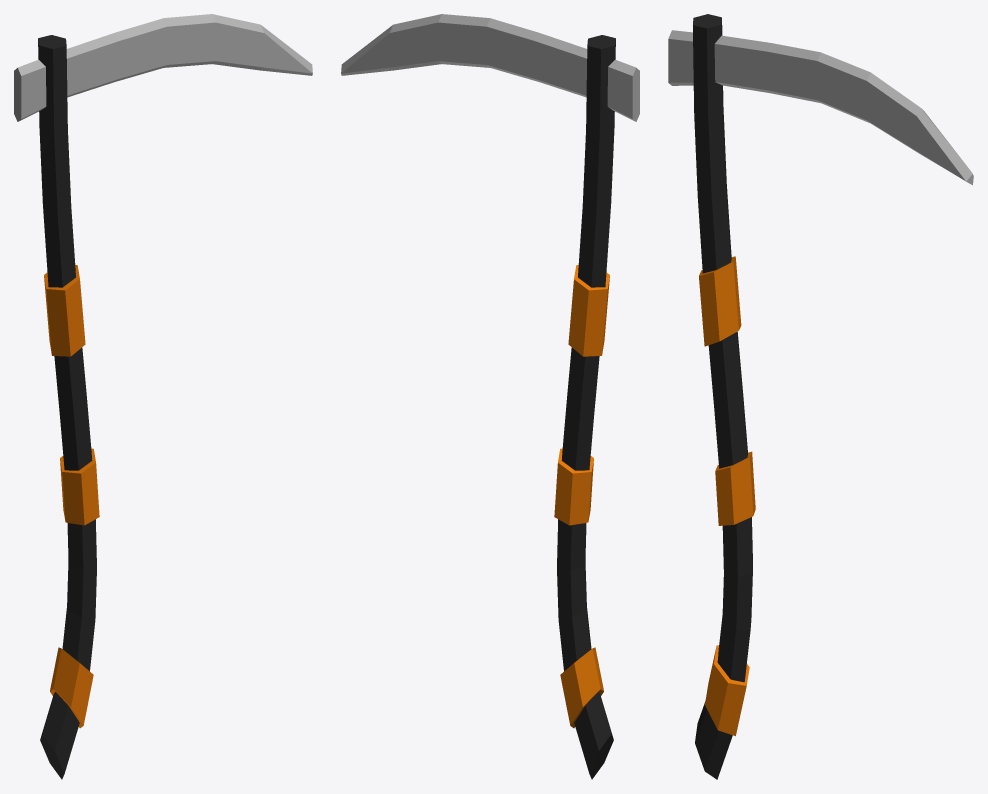
File: Weapon_FM_Scythe.glb
The picture shows the model from 3 angles, left to right: view 1: azimuth 30°, elevation 25°; view 2: azimuth 150°, elevation 25°; view 3: azimuth 330°, elevation 25°; orthographic projection. The views are drawn at different scales.
Visible parts, largest first — view 1: Weapon_Scythe; view 2: Weapon_Scythe; view 3: Weapon_Scythe.
Part boxes in pixels (x1,y1,x2,y2): Weapon_Scythe: (14, 14, 312, 779); Weapon_Scythe: (341, 14, 639, 779); Weapon_Scythe: (668, 14, 973, 779).
Size of the model in its own units: 0.7912 by 1.9 by 0.0989.
